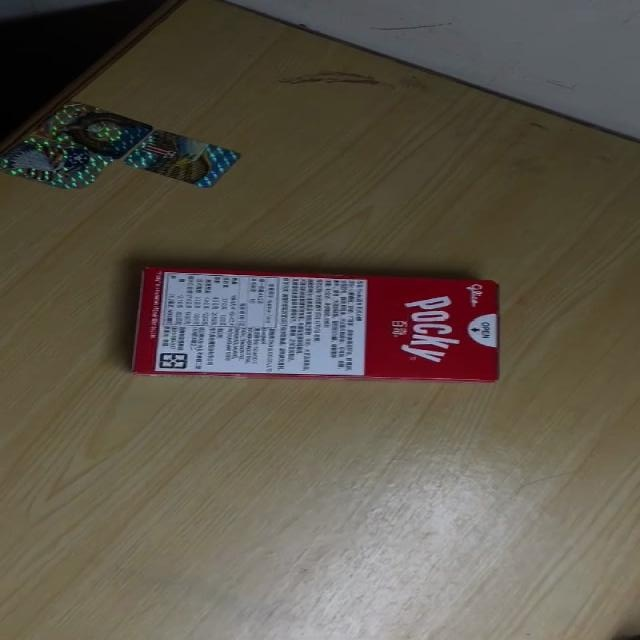Pocky: (125, 266, 509, 386)
